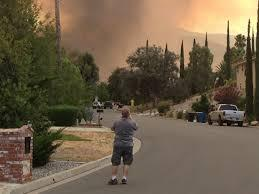smoke: (39, 0, 198, 91)
